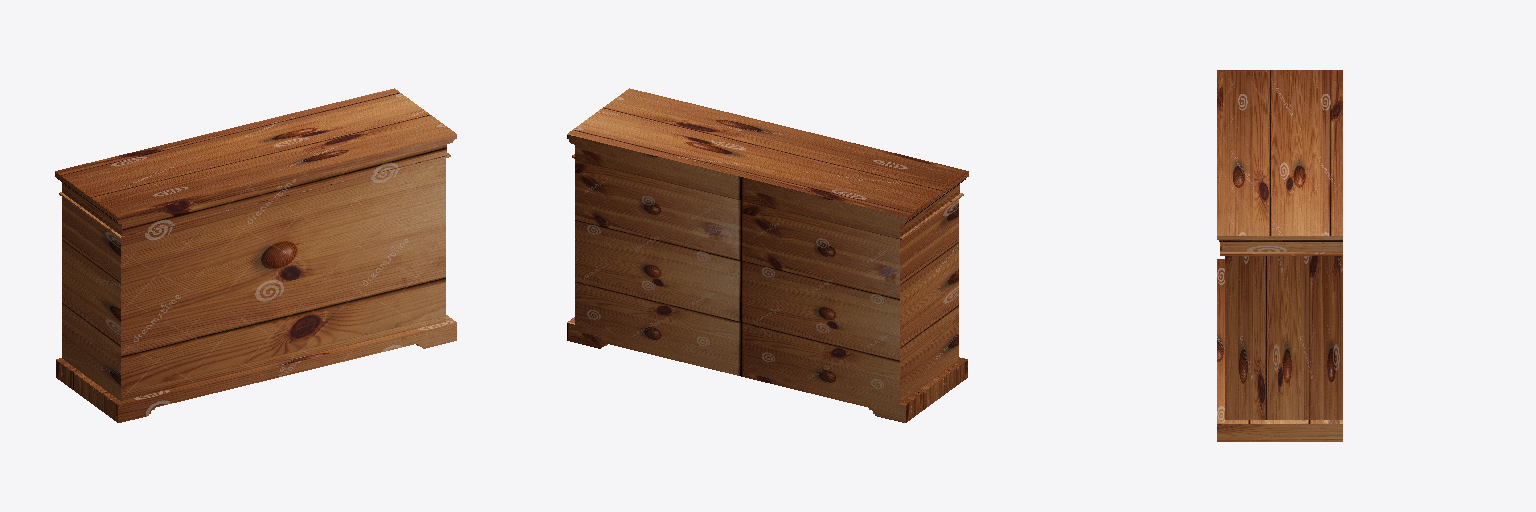
3 renders of one model, left to right at view 1: azimuth 30°, elevation 25°; view 2: azimuth 150°, elevation 25°; view 3: azimuth 270°, elevation 25°, orthographic.
Parts seen in each view (by area): view 1: Layer0_001; view 2: Layer0_001; view 3: Layer0_001.
Boxes of the visible parts, x1=… form: Layer0_001: x1=55, y1=88, x2=456, y2=422; Layer0_001: x1=567, y1=88, x2=968, y2=422; Layer0_001: x1=1217, y1=70, x2=1342, y2=441.
Size of the model in its own units: 1500 by 870 by 480.
Materials: 1 (1 with a texture image).